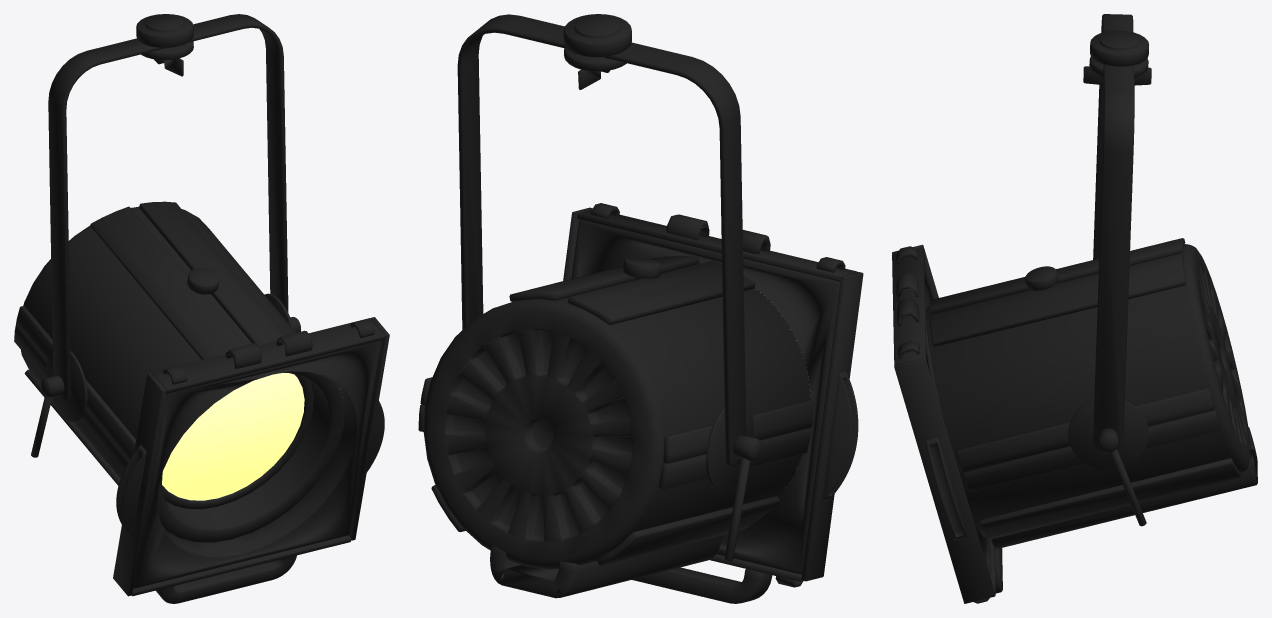
File: softLightHanging-transformed.glb
3 views of the same model, side by side, from view 1: azimuth 30°, elevation 25°; view 2: azimuth 150°, elevation 25°; view 3: azimuth 270°, elevation 25° (orthographic). The views are drawn at different scales.
Visible parts, largest first — view 1: SoftLight_08.001, SoftLight_08.004; view 2: SoftLight_08.001; view 3: SoftLight_08.001.
Boxes of the visible parts, bbox=[...] form: SoftLight_08.001: bbox=[14, 14, 389, 603]; SoftLight_08.004: bbox=[162, 373, 304, 500]; SoftLight_08.001: bbox=[418, 14, 863, 603]; SoftLight_08.001: bbox=[892, 14, 1257, 603].
Size of the model in its own units: 0.651 by 1.23 by 0.7623.
